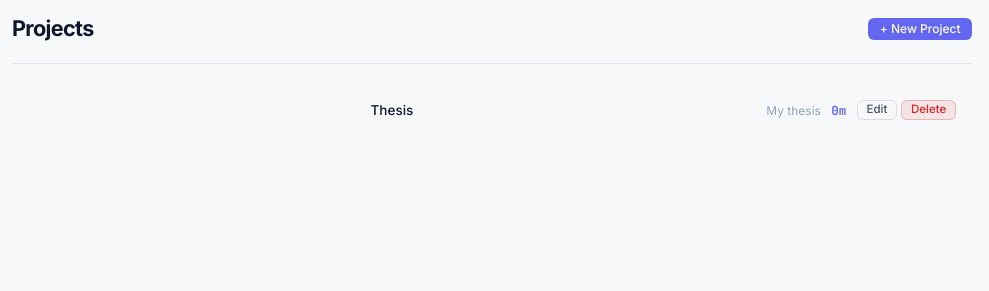
Test: ProjectsPage › clicking Edit shows pre-populated inline edit form
The image size is (989, 291).
Click the button with test id "edit-project-btn-1" at (877, 110), box top-left (857, 100), bottom-right (897, 120)
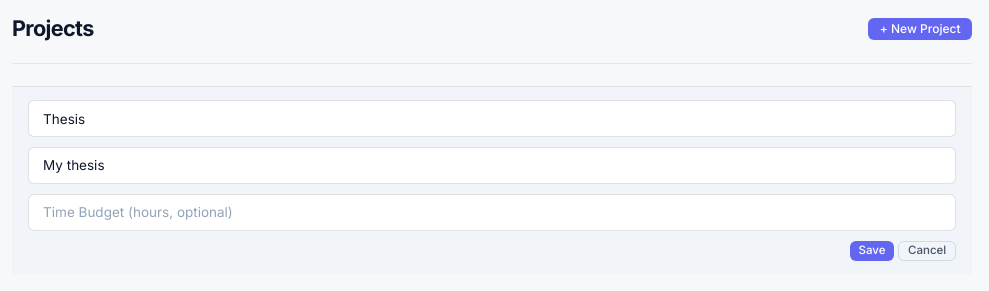
Expected: the form with test id "edit-form-1" is shown
Expected: the field with test id "edit-project-name-input" holds "Thesis", top-left (28, 100), bottom-right (956, 137)
Expected: the field with test id "edit-project-desc-input" holds "My thesis", top-left (28, 147), bottom-right (956, 184)
